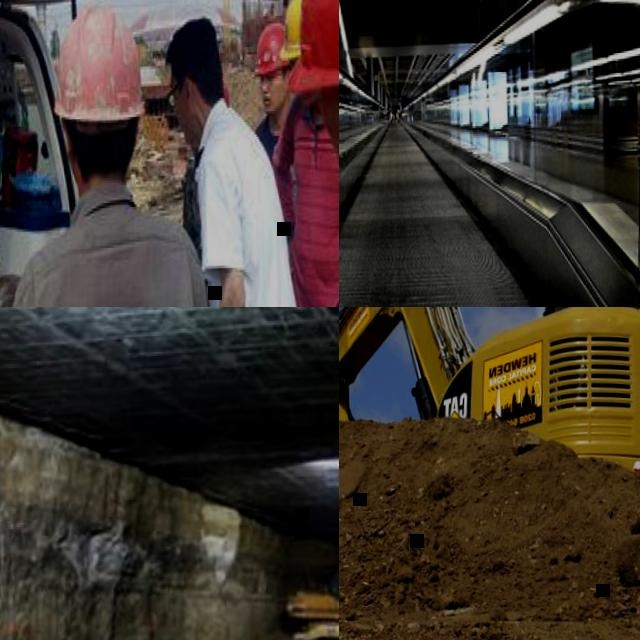Hardhat: (0, 0, 240, 307), (47, 0, 147, 125), (282, 0, 339, 97), (276, 0, 306, 64), (253, 22, 286, 77), (220, 81, 232, 107)
NO-Hardhat: (162, 15, 224, 77)
NO-Mask: (176, 110, 203, 147), (331, 115, 339, 193), (260, 88, 284, 113), (297, 86, 316, 113)
NO-Safety Vest: (203, 117, 301, 307), (40, 211, 208, 307), (284, 110, 339, 307), (257, 123, 292, 245), (180, 167, 200, 240)
Person: (167, 12, 311, 307), (258, 0, 339, 307), (294, 0, 339, 307), (178, 78, 240, 249), (250, 17, 294, 159)
machinery: (339, 307, 640, 550), (280, 545, 339, 640)
vehicle: (0, 0, 323, 307)
